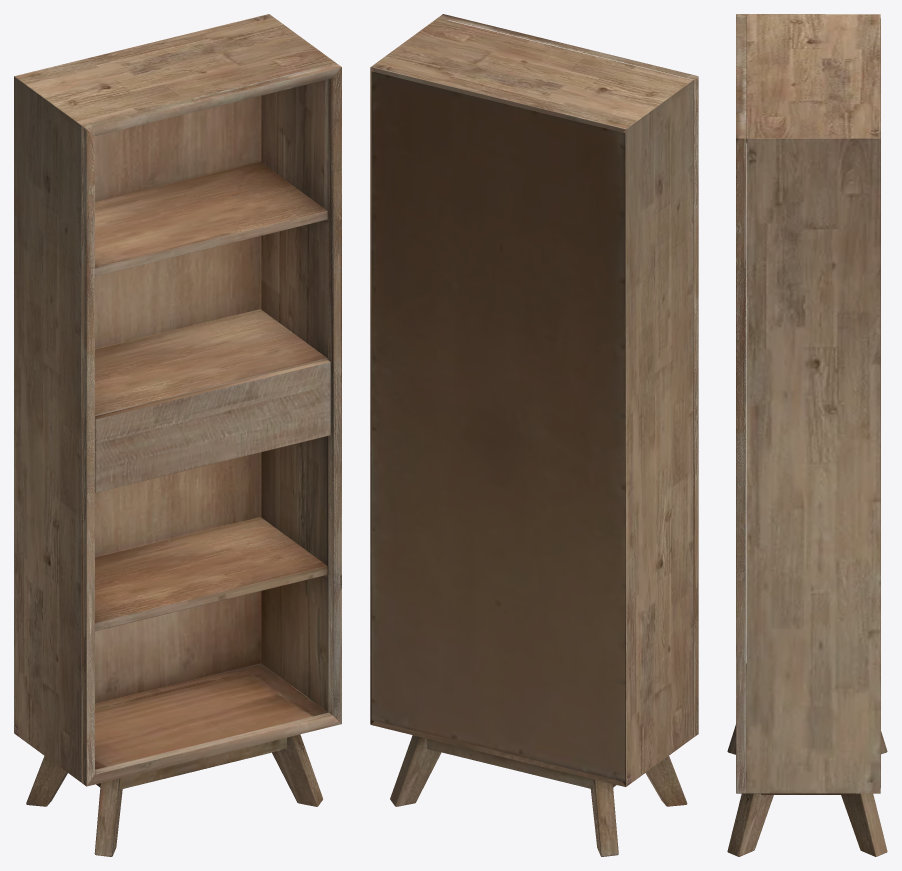
File: bookshelf_abo_B07HSGBB2D.glb
The picture shows the model from 3 angles, left to right: view 1: azimuth 30°, elevation 25°; view 2: azimuth 150°, elevation 25°; view 3: azimuth 270°, elevation 25°; orthographic projection.
Parts seen in each view (by area): view 1: RootNode; view 2: RootNode; view 3: RootNode.
Boxes of the visible parts, x1,y1,x2,y2 form: RootNode: (14, 14, 341, 856); RootNode: (370, 14, 698, 856); RootNode: (727, 14, 887, 856).
Size of the model in its own units: 0.4915 by 1.34 by 0.2673.
1 material, 1 textured.
